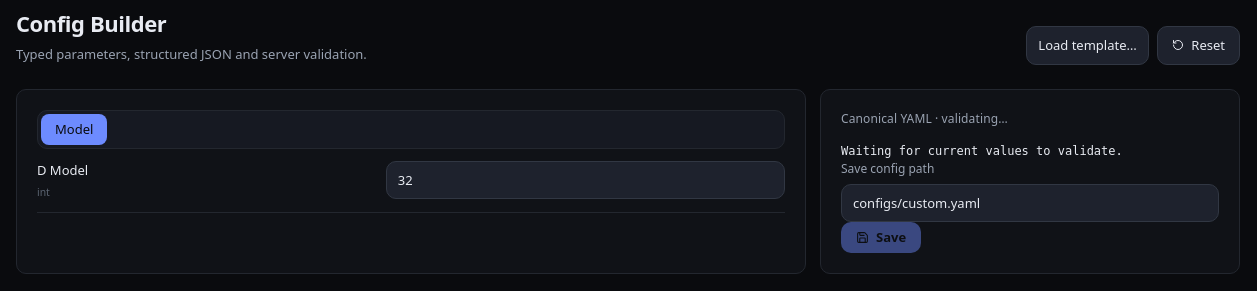
Test: configuration and data failure paths › never commits an older live-build response over newer values
Replace the text in the number field labelled "D Model" with "64". click: (585, 180)
box: top-left (386, 161), bottom-right (785, 199)
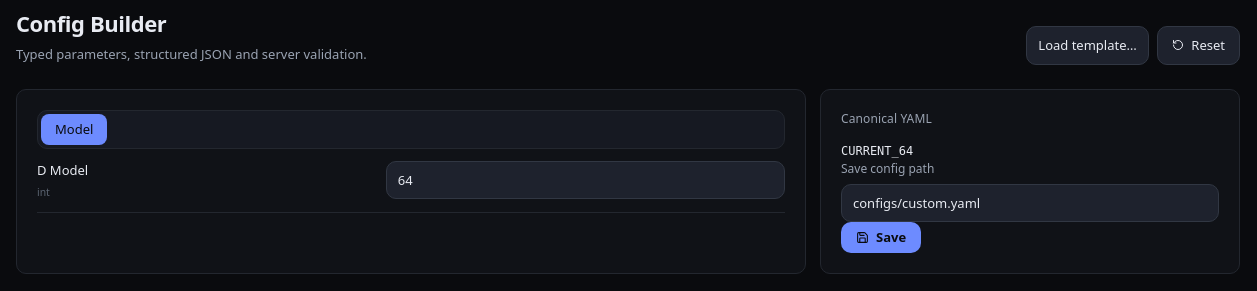
Result: the text "CURRENT_64" is shown at top-left (841, 144), bottom-right (913, 158)
